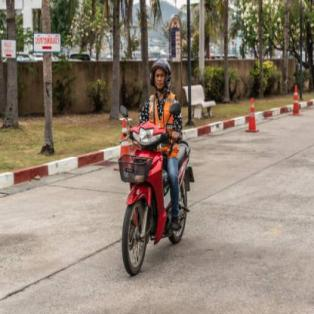Motocicleta: (110, 109, 195, 280)
